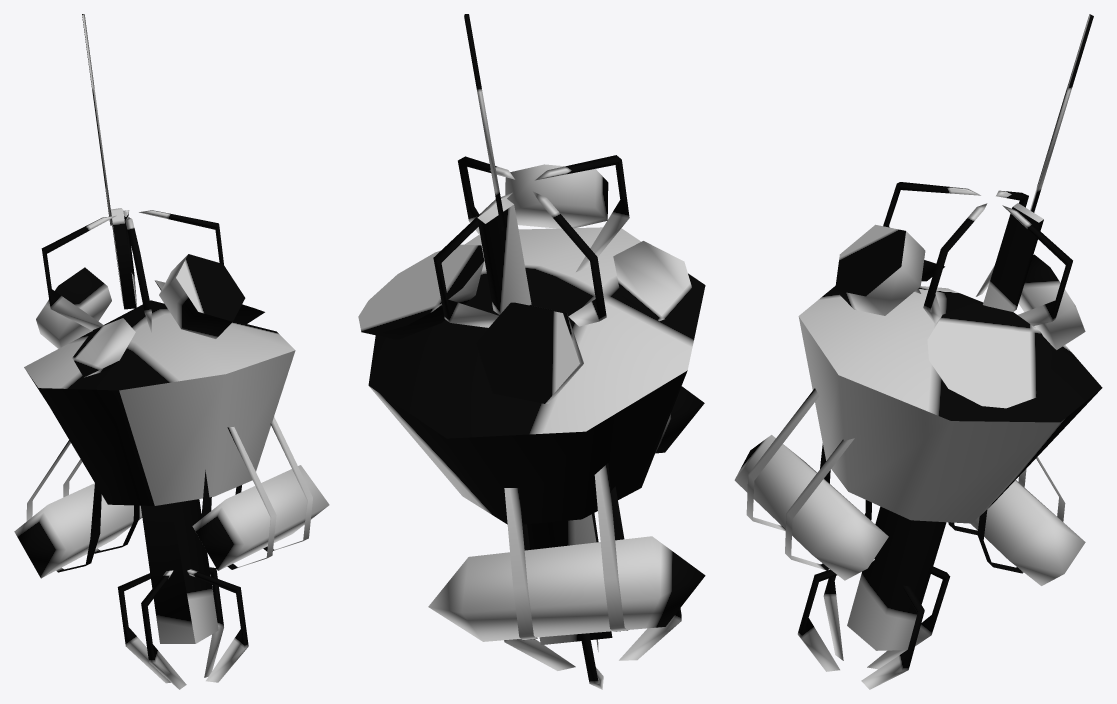
Rendered from aegis-repair-pod.obj.
3 renders of one model, left to right at view 1: azimuth 30°, elevation 25°; view 2: azimuth 150°, elevation 25°; view 3: azimuth 270°, elevation 25°, orthographic. The views are drawn at different scales.
Parts seen in each view (by area): view 1: Object001; view 2: Object001; view 3: Object001.
Part boxes in pixels (left/top/right/bottom): Object001: left=14, top=14, right=329, bottom=689; Object001: left=358, top=14, right=705, bottom=689; Object001: left=734, top=14, right=1102, bottom=689.
Size of the model in its own units: 26.38 by 59.19 by 29.85.
1 material, 1 textured.
